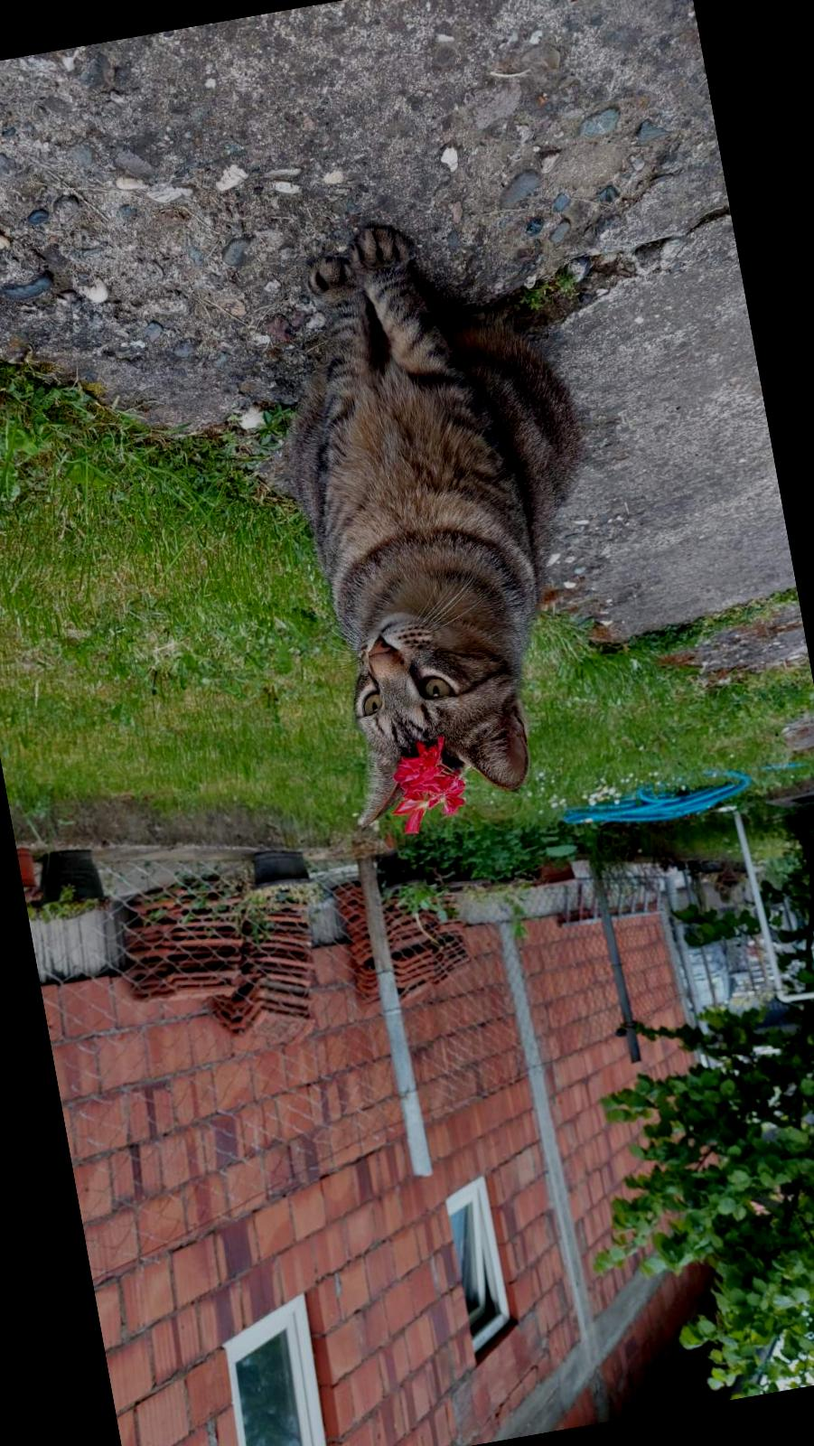macka: (253, 197, 645, 834)
